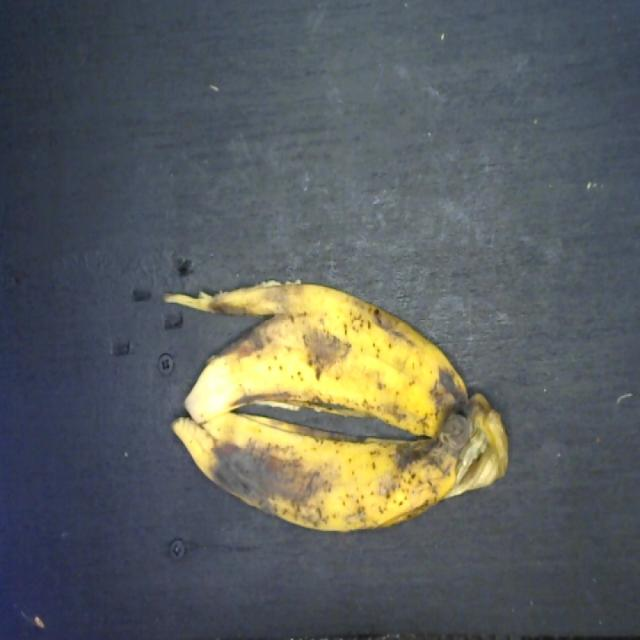biodegradable: (157, 272, 514, 550)
